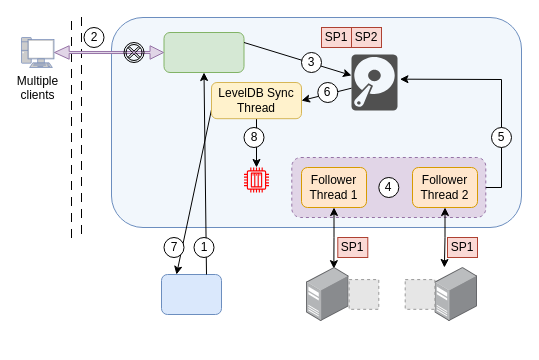
Some shapes in this 539 by 360 pixel diagram are drawn without their labels. Grey dashed boxes stand in for pictures. The shapes that lost their labels are listed below. From the top down, each one's centre as x and y in pixels, then its label:
At point 203,52: "Leader RPC thread".
At point 374,82: "Persistent Storage".
At point 256,179: "State Controller".
At point 191,294: "New Machine".
At point 327,294: "Follower Server 1".
At point 455,294: "Follower Server 2".
